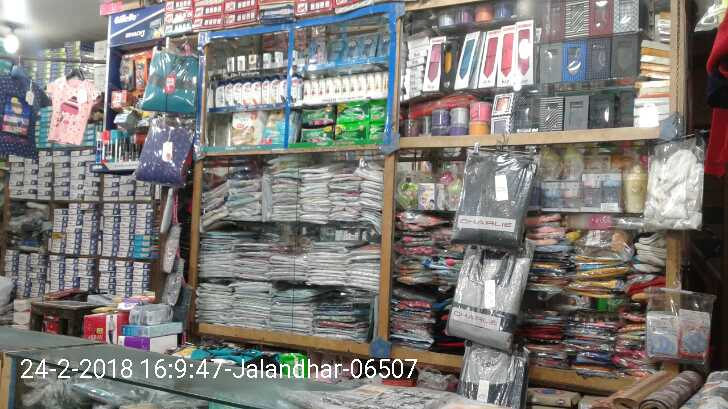venus: (345, 35, 361, 59), (377, 30, 391, 57), (361, 35, 377, 57)
